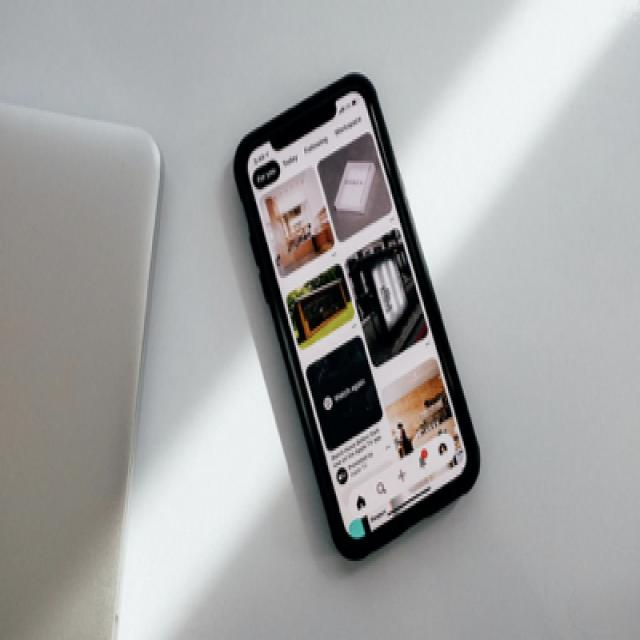cellphone: (232, 69, 480, 561)
